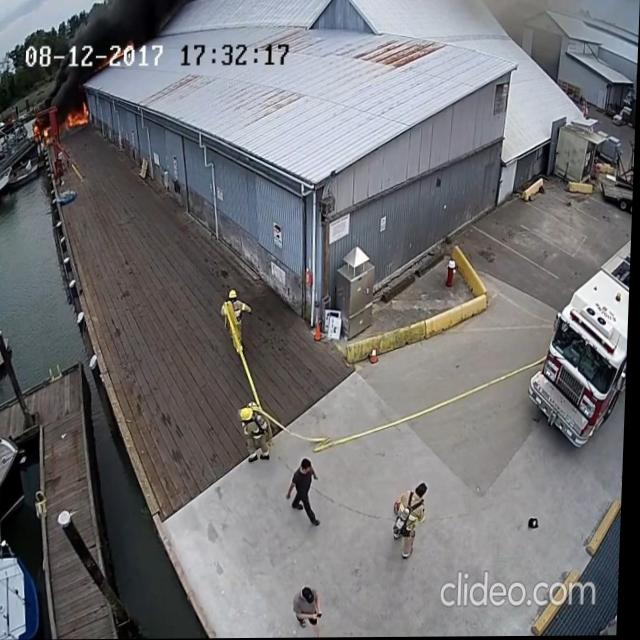fire: (59, 97, 96, 130), (31, 121, 57, 145)
